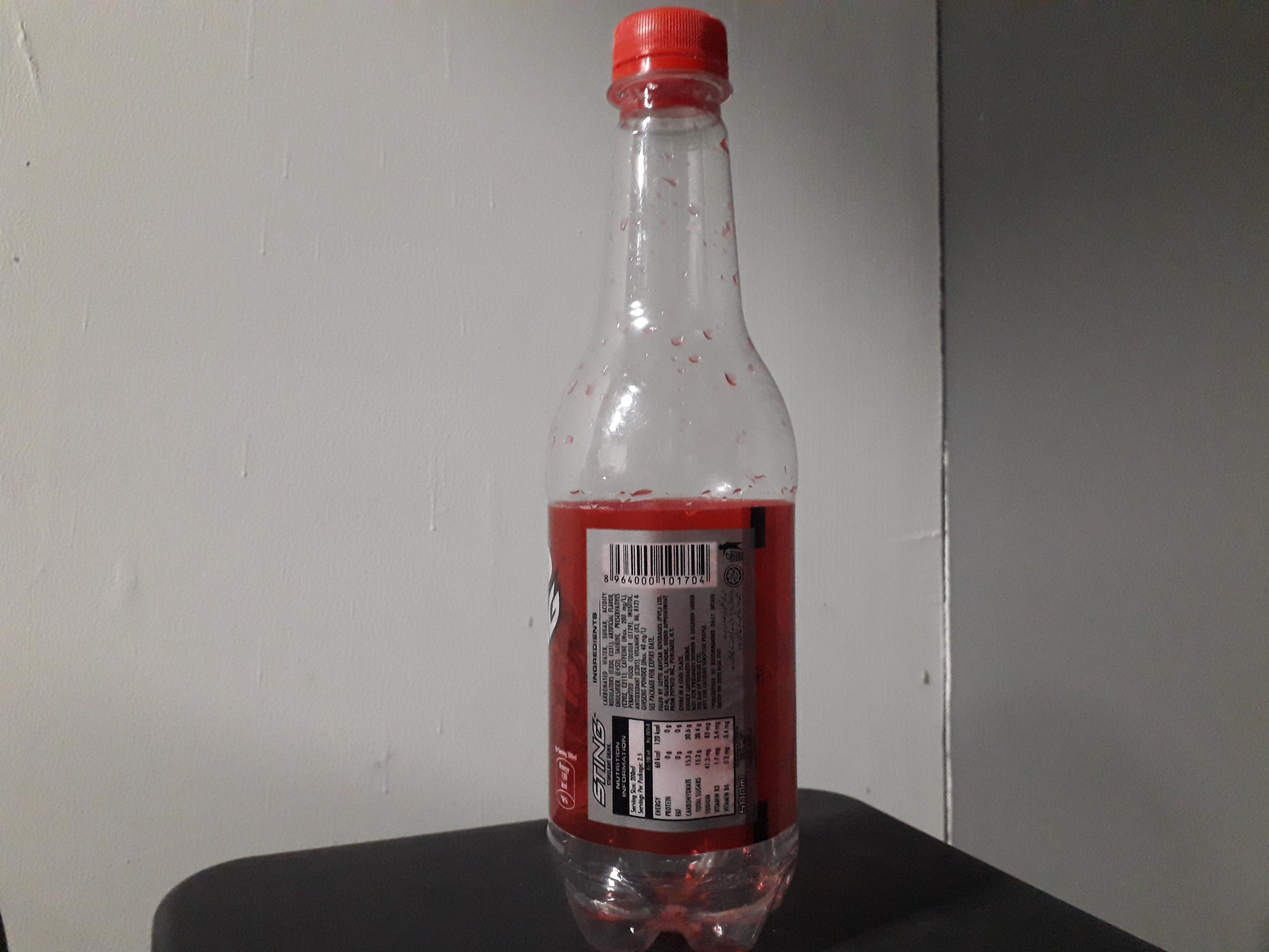bottle-plastic: (542, 2, 806, 951)
